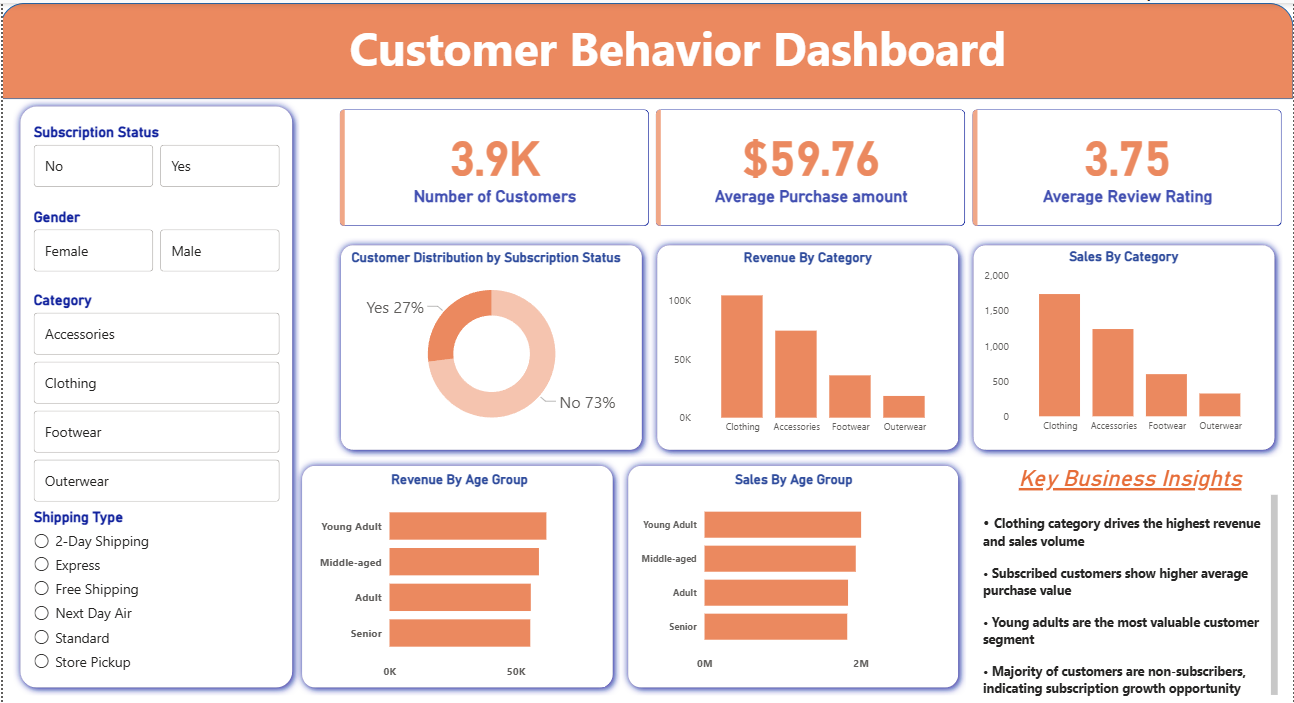

The page's visual inventory and layout, read from the dashboard file:
{"tool":"powerbi","page":{"name":"Page 1","canvas":[1500,820],"ordinal":0},"visuals":[{"type":"cardVisual","fields":{"Data":["customer.Number of Customers","customer.Average Purchase amount","customer.Average Review Rating"]},"box":[380,112,1120,160],"z":0},{"type":"shape","box":[-4,0,1504,112],"z":1000},{"type":"textbox","box":[12,16,1488,80],"z":2000},{"type":"shape","box":[384,272,368,256],"z":3000},{"type":"donutChart","title":"Customer Distribution by Subscription Status","fields":{"Category":["customer.subscription_status"],"Y":["CountNonNull(customer.customer_id)"]},"box":[400,288,336,224],"z":4000},{"type":"shape","box":[752,272,368,256],"z":5000},{"type":"shape","box":[1120,272,368,256],"z":6000},{"type":"clusteredColumnChart","title":"Revenue By Category","fields":{"Category":["customer.category"],"Y":["Sum(customer.purchase_amount)"]},"box":[768,288,336,224],"z":7000},{"type":"clusteredColumnChart","title":"Sales By Category","fields":{"Category":["customer.category"],"Y":["CountNonNull(customer.customer_id)"]},"box":[1135.5,286.1,334.9,224],"z":8000},{"type":"shape","box":[11.3,111.3,334,693.9],"z":9000},{"type":"advancedSlicerVisual","title":"Subscription Status","fields":{"Values":["customer.subscription_status"]},"box":[30.7,140.4,296.9,79.1],"z":10000},{"type":"advancedSlicerVisual","title":"Gender","fields":{"Values":["customer.gender"]},"box":[30.7,238.8,296.9,79.1],"z":11000},{"type":"advancedSlicerVisual","title":"Category","fields":{"Values":["customer.category"]},"box":[30.7,335.6,296.9,251.7],"z":12000},{"type":"listSlicer","title":"Shipping Type","fields":{"Values":["customer.shipping_type"]},"box":[30.7,587.4,296.9,198.5],"z":13000},{"type":"shape","box":[718.1,529.3,401.8,275.9],"z":14000},{"type":"shape","box":[338.9,529.3,379.2,275.9],"z":15000},{"type":"clusteredBarChart","title":"Revenue By Age Group","fields":{"Category":["customer.age_group"],"Y":["Sum(customer.purchase_amount)"]},"box":[361.5,545.4,338.9,250.1],"z":16000},{"type":"clusteredBarChart","title":"Sales By Age Group","fields":{"Category":["customer.age_group"],"Y":["Sum(customer.customer_id)"]},"box":[736.5,545.5,367.5,241.2],"z":17000},{"type":"textbox","title":"Key Business Insights","box":[1134.8,537.4,352.9,281.7],"z":18000}]}

Visuals, with their boxes in screenshot pixels (x1, y1, x2, y2), scaled from the page's 1500x820 canvas onto the 1294x703 screenshot:
cardVisual - customer.Number of Customers x customer.Average Purchase amount: [left=328, top=96, right=1293, bottom=233]
shape: [left=0, top=0, right=1293, bottom=96]
textbox: [left=10, top=14, right=1293, bottom=82]
shape: [left=331, top=233, right=649, bottom=453]
"Customer Distribution by Subscription Status" donutChart: [left=345, top=247, right=635, bottom=439]
shape: [left=649, top=233, right=966, bottom=453]
shape: [left=966, top=233, right=1284, bottom=453]
"Revenue By Category" clusteredColumnChart: [left=663, top=247, right=952, bottom=439]
"Sales By Category" clusteredColumnChart: [left=980, top=245, right=1268, bottom=437]
shape: [left=10, top=95, right=298, bottom=690]
"Subscription Status" advancedSlicerVisual: [left=26, top=120, right=283, bottom=188]
"Gender" advancedSlicerVisual: [left=26, top=205, right=283, bottom=273]
"Category" advancedSlicerVisual: [left=26, top=288, right=283, bottom=504]
"Shipping Type" listSlicer: [left=26, top=504, right=283, bottom=674]
shape: [left=619, top=454, right=966, bottom=690]
shape: [left=292, top=454, right=619, bottom=690]
"Revenue By Age Group" clusteredBarChart: [left=312, top=468, right=604, bottom=682]
"Sales By Age Group" clusteredBarChart: [left=635, top=468, right=952, bottom=674]
"Key Business Insights" textbox: [left=979, top=461, right=1283, bottom=702]
